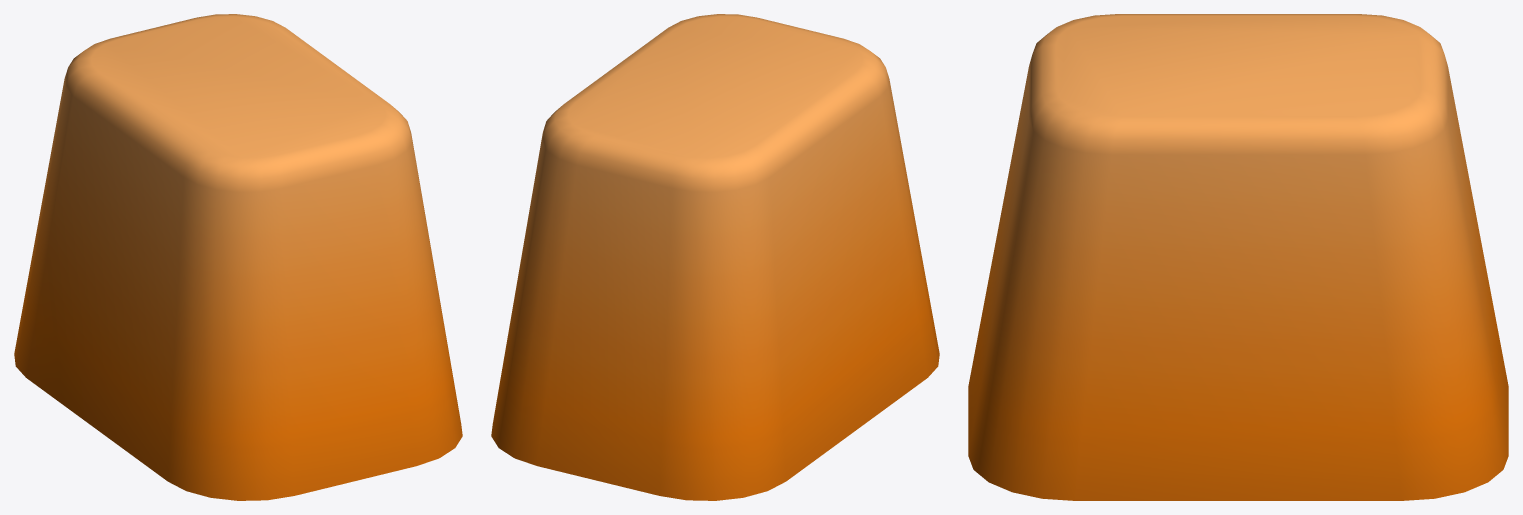
File: Rock_A_02.glb
The picture shows the model from 3 angles, left to right: view 1: azimuth 30°, elevation 25°; view 2: azimuth 150°, elevation 25°; view 3: azimuth 270°, elevation 25°; orthographic projection. The views are drawn at different scales.
Visible parts, largest first — view 1: Rock_A_02; view 2: Rock_A_02; view 3: Rock_A_02.
Part boxes in pixels (x1,y1,x2,y2): Rock_A_02: [14, 14, 462, 500]; Rock_A_02: [491, 14, 939, 500]; Rock_A_02: [968, 14, 1508, 500].
Bounding box in the file's own units: 1.23 × 1.28 × 1.77.
1 material, 1 textured.
